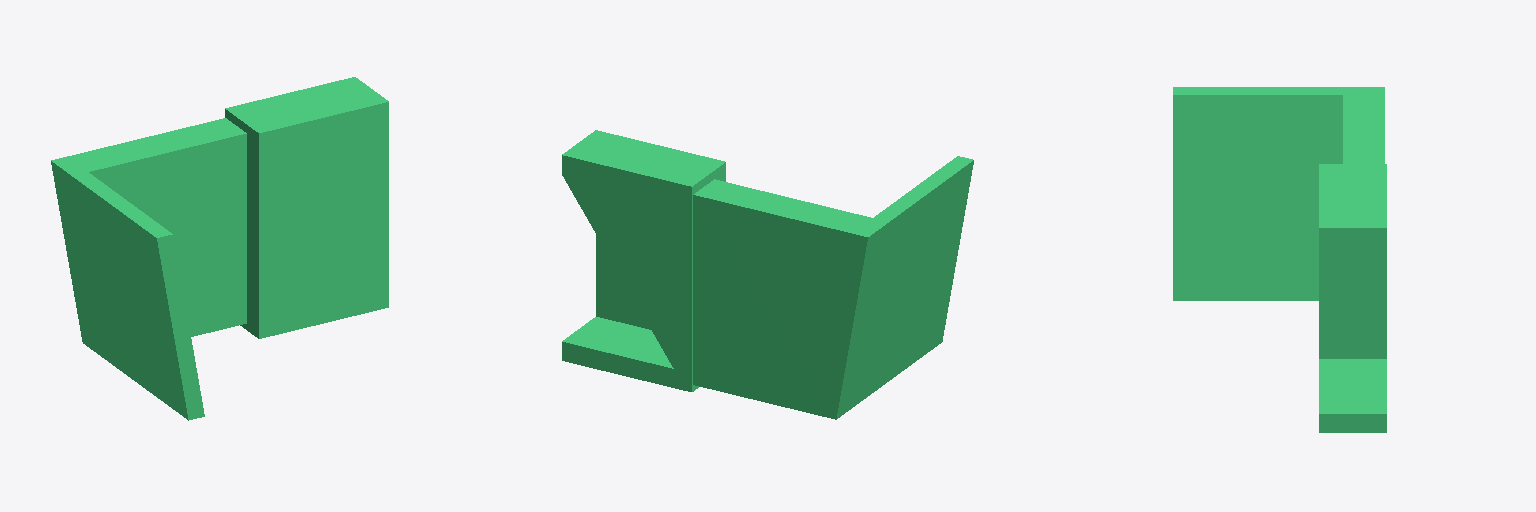
The model's file is IRMountBRight.obj.
3 renders of one model, left to right at view 1: azimuth 30°, elevation 25°; view 2: azimuth 150°, elevation 25°; view 3: azimuth 270°, elevation 25°, orthographic.
Visible parts, largest first — view 1: Object005; view 2: Object005; view 3: Object005.
Part boxes in pixels (bbox=[...]): Object005: bbox=[51, 77, 388, 420]; Object005: bbox=[562, 130, 973, 419]; Object005: bbox=[1173, 87, 1386, 432].
Bounding box in the file's own units: 16.63 × 10.7 × 10.1.